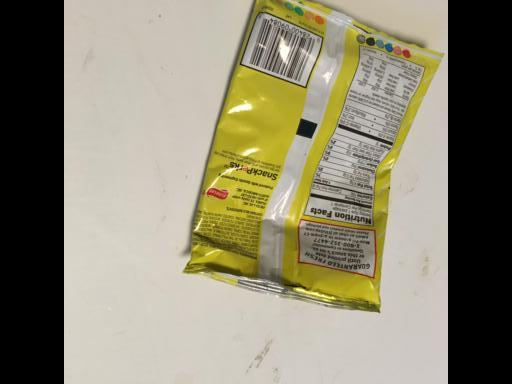trash: (180, 3, 443, 315)
